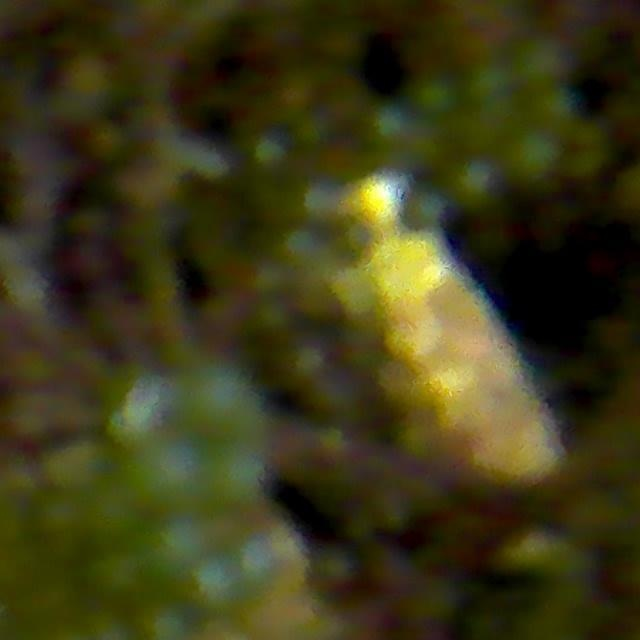SeaGrape: (130, 434, 208, 512), (183, 362, 261, 438), (146, 514, 212, 577), (208, 443, 266, 506), (45, 439, 107, 494), (189, 554, 245, 614), (503, 127, 561, 183), (87, 547, 143, 602), (515, 33, 572, 87), (410, 74, 462, 122), (135, 600, 194, 640), (529, 85, 576, 132), (467, 59, 513, 104)
